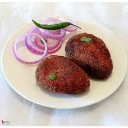cutlet: (67, 32, 115, 77), (38, 55, 90, 96)
